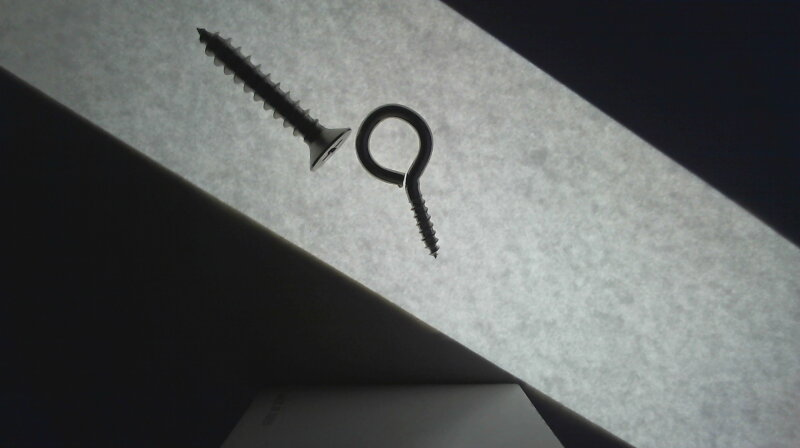O001: (355, 103, 448, 262)
S001: (195, 25, 353, 171)
